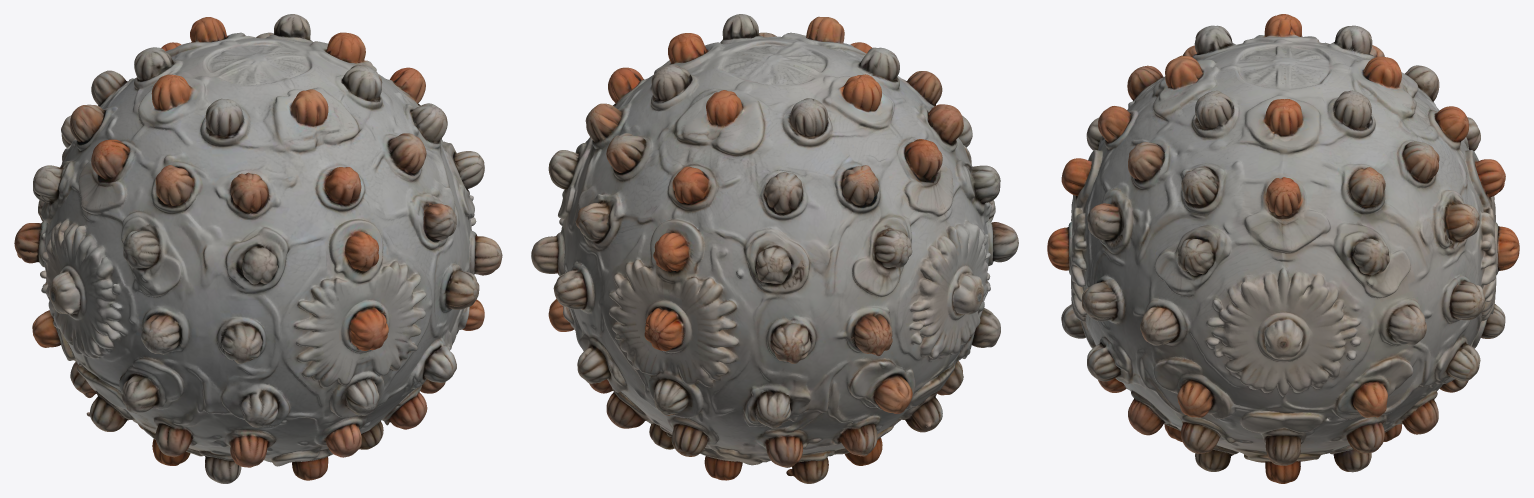
File: detailed_realistic_model_solid_01.glb
3 renders of one model, left to right at view 1: azimuth 30°, elevation 25°; view 2: azimuth 150°, elevation 25°; view 3: azimuth 270°, elevation 25°, orthographic.
Visible parts, largest first — view 1: tripo_node_7d46df09-8826-490a-921a-b7ea1b0481b0; view 2: tripo_node_7d46df09-8826-490a-921a-b7ea1b0481b0; view 3: tripo_node_7d46df09-8826-490a-921a-b7ea1b0481b0.
Part boxes in pixels (x1,y1,x2,y2): tripo_node_7d46df09-8826-490a-921a-b7ea1b0481b0: (14, 14, 502, 483); tripo_node_7d46df09-8826-490a-921a-b7ea1b0481b0: (531, 14, 1018, 483); tripo_node_7d46df09-8826-490a-921a-b7ea1b0481b0: (1047, 14, 1519, 483).
Size of the model in its own units: 0.9914 by 0.8951 by 0.9999.
Materials: 1 (1 with a texture image).
